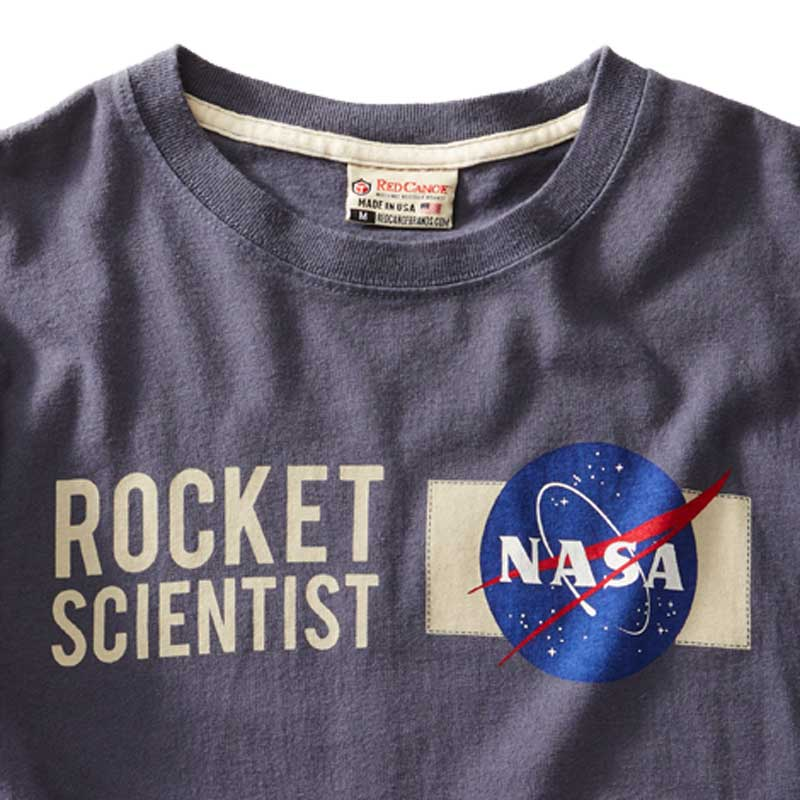NASA: (469, 439, 732, 683)
